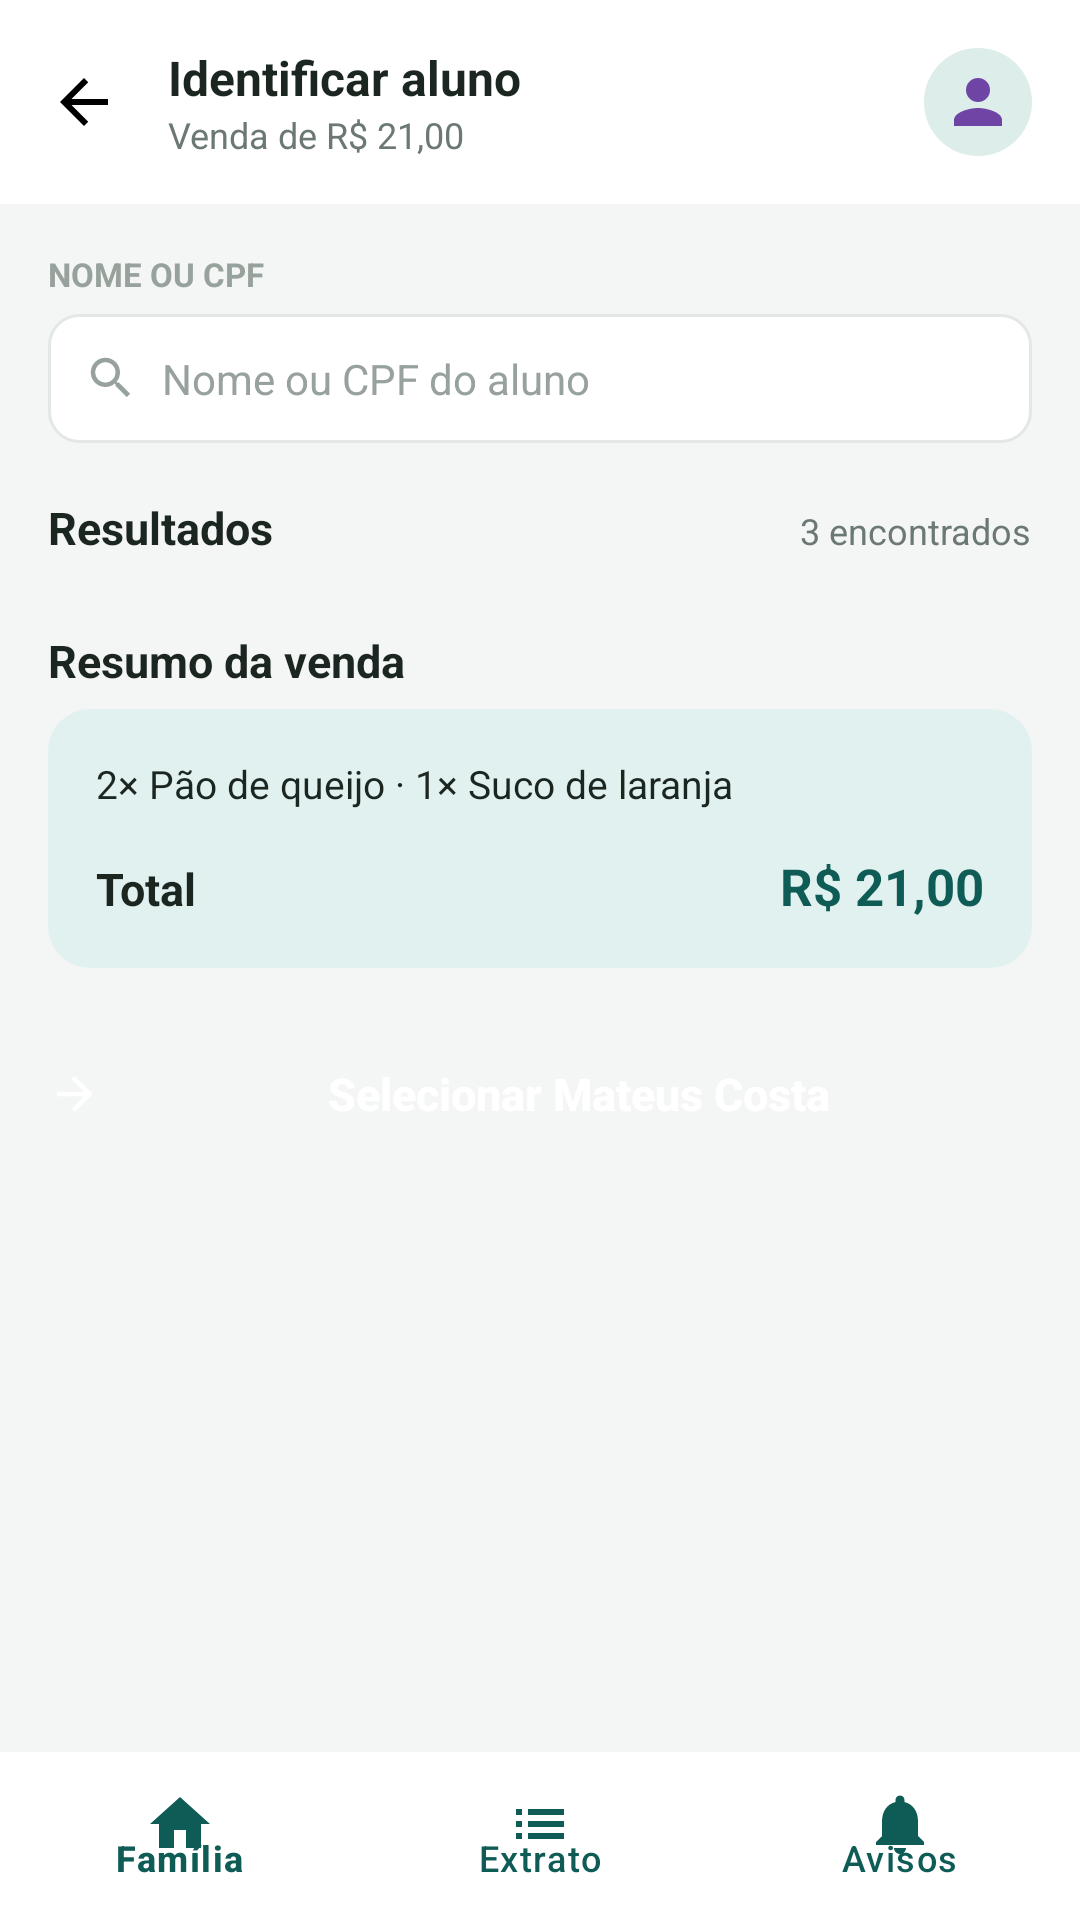

Named icons in this screenshot (1080w x 1920h) and their centers, (x=x, y=y):
Perfil: (x=978, y=102)
search: (x=110, y=377)
Voltar: (x=84, y=102)
